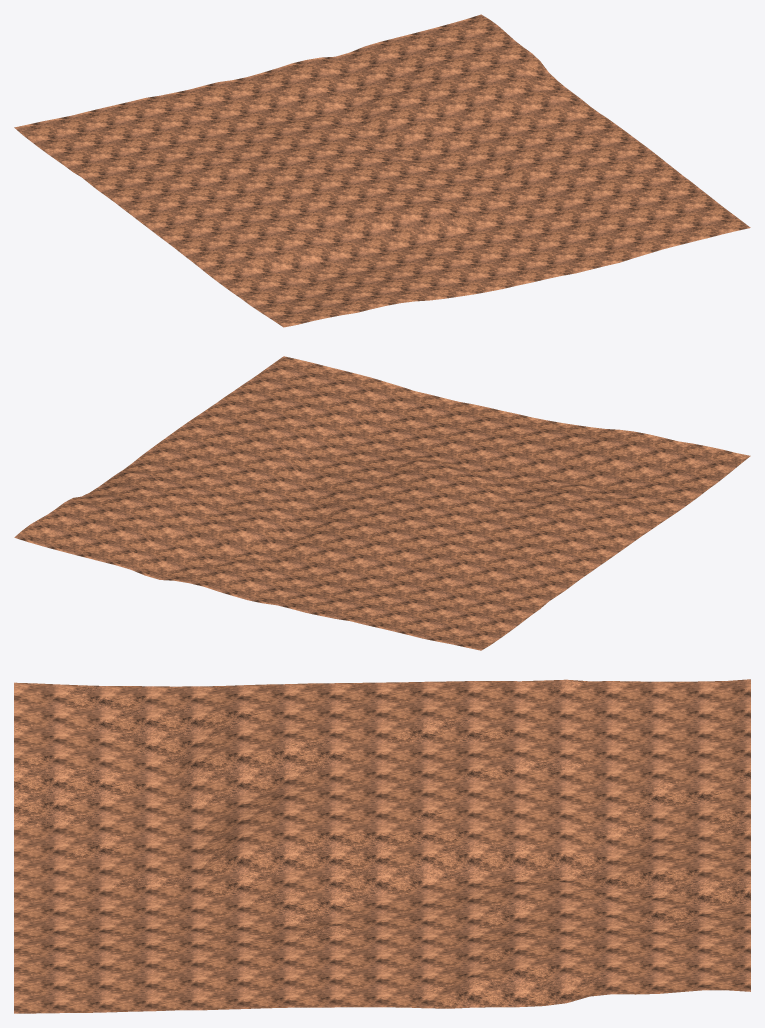
Rendered from terrain_09_16.dae.
3 renders of one model, top to bottom at view 1: azimuth 30°, elevation 25°; view 2: azimuth 150°, elevation 25°; view 3: azimuth 270°, elevation 25°, orthographic. The views are drawn at different scales.
Parts seen in each view (by area): view 1: terrain_09_16-node; view 2: terrain_09_16-node; view 3: terrain_09_16-node.
Boxes of the visible parts, bbox=[...] form: terrain_09_16-node: bbox=[14, 14, 750, 327]; terrain_09_16-node: bbox=[14, 356, 750, 650]; terrain_09_16-node: bbox=[14, 679, 750, 1013].
Bounding box in the file's own units: 128 × 128 × 5.26.
1 material, 1 textured.
